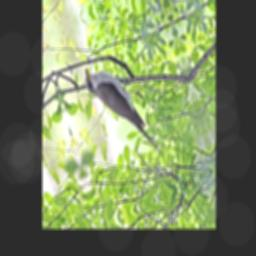Cuckoo: (81, 43, 166, 182)
